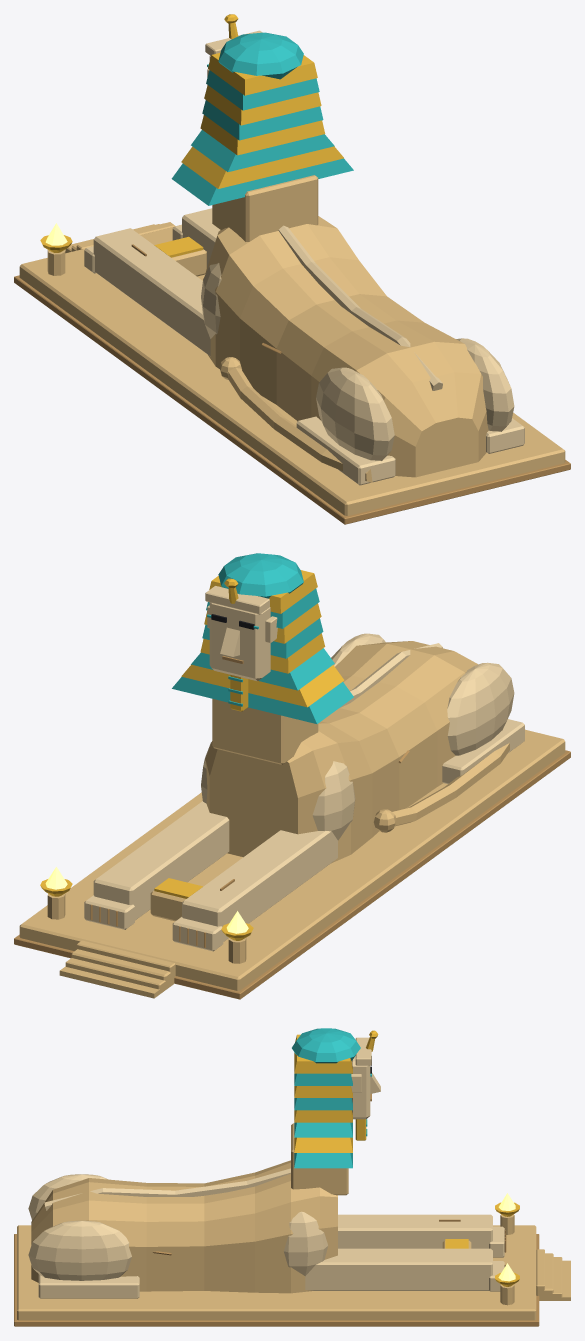
The model's file is Sphinx.fbx.
3 renders of one model, top to bottom at view 1: azimuth 30°, elevation 25°; view 2: azimuth 150°, elevation 25°; view 3: azimuth 270°, elevation 25°, orthographic. The views are drawn at different scales.
Visible parts, largest first — view 1: Sphinx_Sandstone, Sphinx_SandstoneLight, Sphinx_Turquoise, Sphinx_Gold, Sphinx_SandstoneDark; view 2: Sphinx_Sandstone, Sphinx_SandstoneLight, Sphinx_Turquoise, Sphinx_Gold, Sphinx_SandstoneDark, Sphinx_Fire; view 3: Sphinx_Sandstone, Sphinx_SandstoneLight, Sphinx_Turquoise, Sphinx_SandstoneDark, Sphinx_Gold, Sphinx_Fire.
Boxes of the visible parts, bbox=[...] form: Sphinx_Sandstone: bbox=[19, 175, 565, 515]; Sphinx_SandstoneLight: bbox=[84, 30, 524, 485]; Sphinx_Turquoise: bbox=[171, 32, 353, 205]; Sphinx_Gold: bbox=[40, 14, 343, 257]; Sphinx_SandstoneDark: bbox=[14, 244, 570, 524]; Sphinx_Sandstone: bbox=[19, 641, 565, 998]; Sphinx_SandstoneLight: bbox=[84, 586, 524, 951]; Sphinx_Turquoise: bbox=[172, 553, 353, 723]; Sphinx_Gold: bbox=[40, 570, 344, 940]; Sphinx_SandstoneDark: bbox=[14, 656, 570, 999]; Sphinx_Fire: bbox=[45, 867, 248, 933]; Sphinx_Sandstone: bbox=[17, 1123, 570, 1320]; Sphinx_SandstoneLight: bbox=[28, 1037, 504, 1298]; Sphinx_Turquoise: bbox=[292, 1028, 371, 1168]; Sphinx_SandstoneDark: bbox=[14, 1094, 539, 1326]; Sphinx_Gold: bbox=[294, 1030, 519, 1286]; Sphinx_Fire: bbox=[498, 1193, 515, 1281].
Size of the model in its own units: 28.8 by 38.46 by 77.2.
